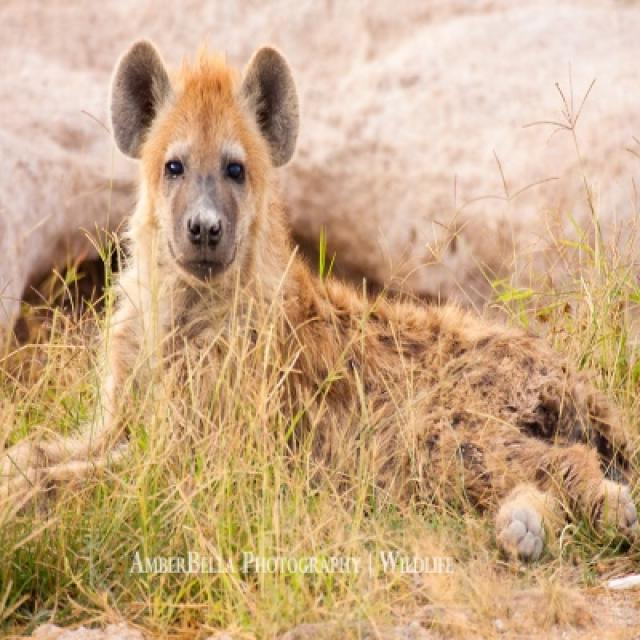hyena: (96, 40, 635, 557)
